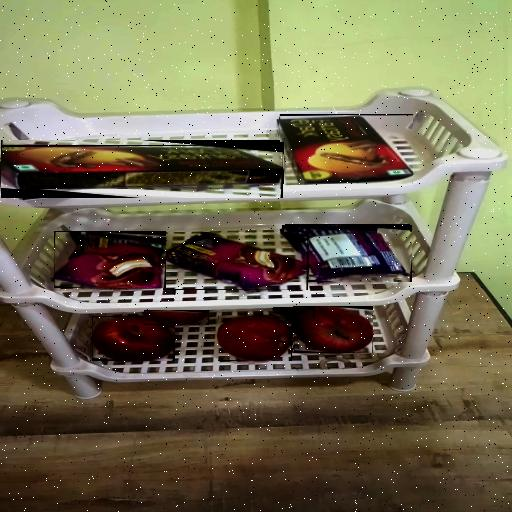Apple: (294, 306, 373, 353), (92, 317, 174, 360), (218, 316, 292, 361), (144, 311, 208, 325), (273, 307, 314, 318)
Choco Fills: (1, 147, 283, 189), (280, 116, 412, 184)
Choco Pie: (163, 232, 307, 290), (285, 225, 410, 279), (54, 232, 166, 288)
